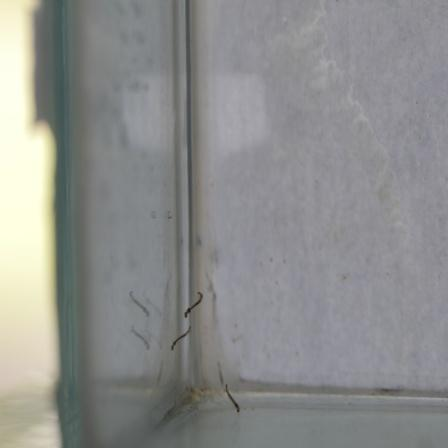Jentik-Nyamuk: (180, 287, 206, 319), (222, 379, 244, 415), (168, 323, 194, 353)
